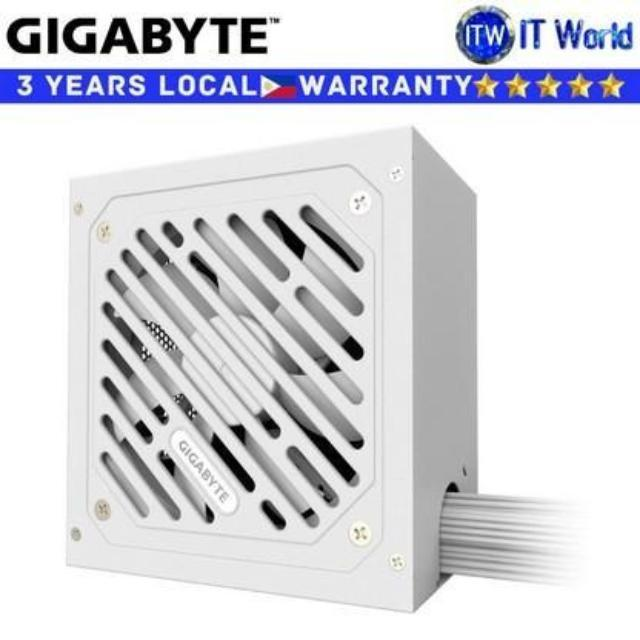PSU: (48, 116, 500, 624)
